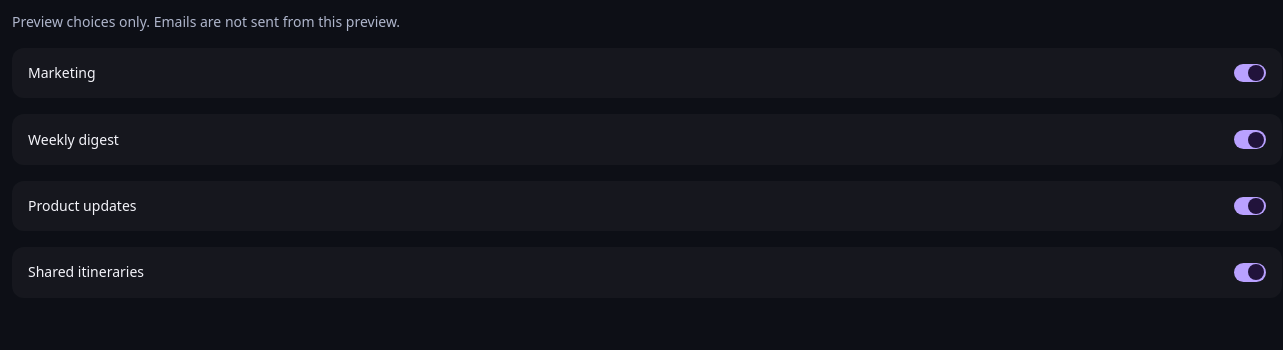
Scenario: preview email choices › keeps saved choices on a failed write
Click the switch named "Marketing" in the row of "Marketing" at coordinates (1250, 73), box [1234, 64, 1266, 82]
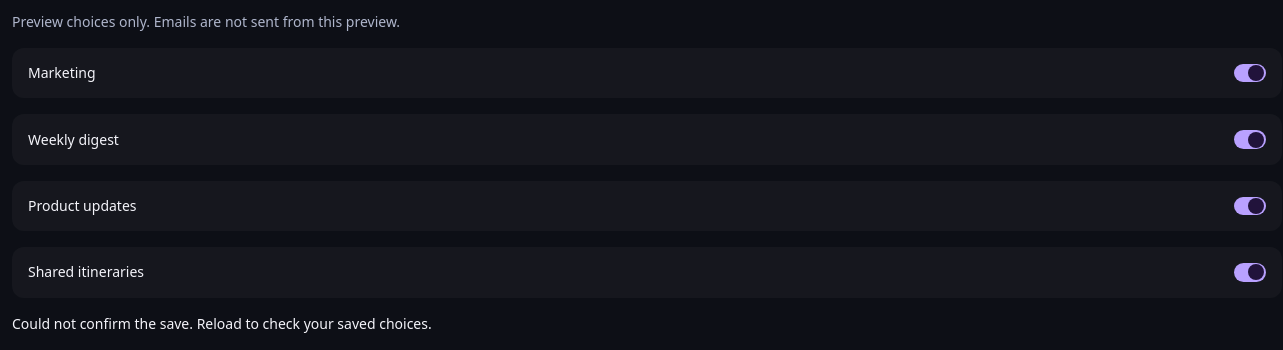
Expected: the text "Could not confirm the save. Reload to check your saved choices." is shown, [12, 314, 432, 333]
